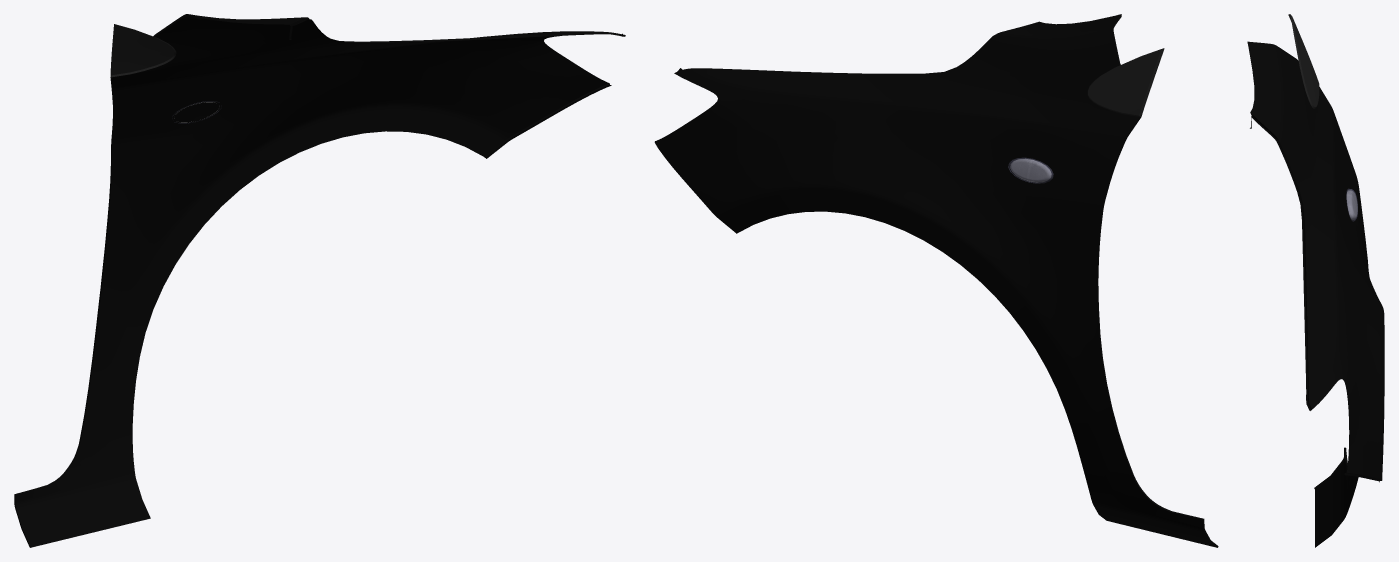
3 renders of one model, left to right at view 1: azimuth 30°, elevation 25°; view 2: azimuth 150°, elevation 25°; view 3: azimuth 270°, elevation 25°, orthographic. The views are drawn at different scales.
Visible parts, largest first — view 1: Y212_121B_L_Y212_121B_L_3_DaS, Y212_121B_L_2_D_Y212_121B_L, Y212_121B_L_Y212_121B_L_3_DaS_E, Y212_121B_L_Y212_121B_L_5_D; view 2: Y212_121B_L_Y212_121B_L_3_DaS, Y212_121B_L_2_D_Y212_121B_L, Y212_121B_L_Y212_121B_L_3_DaS_E, Y212_121B_L_Y212_121B_L_4_DTaSI, Y212_121B_L_Y212_121B_L_1_N; view 3: Y212_121B_L_Y212_121B_L_3_DaS, Y212_121B_L_2_D_Y212_121B_L, Y212_121B_L_Y212_121B_L_3_DaS_E, Y212_121B_L_Y212_121B_L_5_D, Y212_121B_L_Y212_121B_L_4_DTaSI, Y212_121B_L_Y212_121B_L_1_N.
Part boxes in pixels (bbox=[...]): Y212_121B_L_Y212_121B_L_3_DaS: bbox=[15, 14, 609, 547]; Y212_121B_L_2_D_Y212_121B_L: bbox=[110, 24, 176, 78]; Y212_121B_L_Y212_121B_L_3_DaS_E: bbox=[14, 14, 620, 547]; Y212_121B_L_Y212_121B_L_5_D: bbox=[289, 19, 625, 158]; Y212_121B_L_Y212_121B_L_3_DaS: bbox=[655, 14, 1217, 547]; Y212_121B_L_2_D_Y212_121B_L: bbox=[1087, 48, 1164, 116]; Y212_121B_L_Y212_121B_L_3_DaS_E: bbox=[1097, 14, 1218, 547]; Y212_121B_L_Y212_121B_L_4_DTaSI: bbox=[1008, 158, 1053, 183]; Y212_121B_L_Y212_121B_L_1_N: bbox=[1010, 158, 1051, 182]; Y212_121B_L_Y212_121B_L_3_DaS: bbox=[1247, 41, 1384, 547]; Y212_121B_L_2_D_Y212_121B_L: bbox=[1288, 14, 1319, 108]; Y212_121B_L_Y212_121B_L_3_DaS_E: bbox=[1250, 113, 1381, 489]; Y212_121B_L_Y212_121B_L_5_D: bbox=[1250, 116, 1379, 482]; Y212_121B_L_Y212_121B_L_4_DTaSI: bbox=[1346, 189, 1357, 221]; Y212_121B_L_Y212_121B_L_1_N: bbox=[1346, 190, 1357, 219].
Size of the model in its own units: 117 by 97.16 by 23.47.
